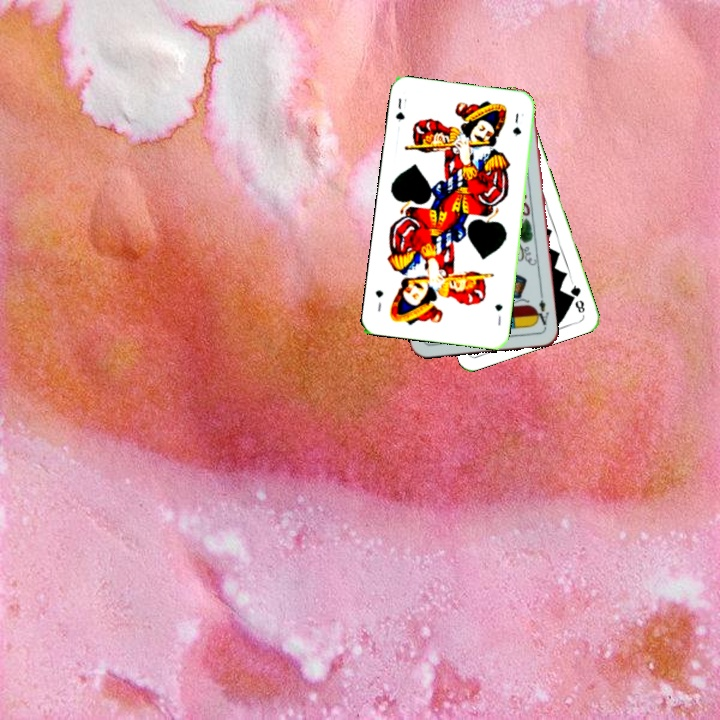EA: (531, 290, 551, 330)
G8: (566, 278, 587, 316)
GU: (391, 94, 409, 125), (491, 300, 505, 328)
